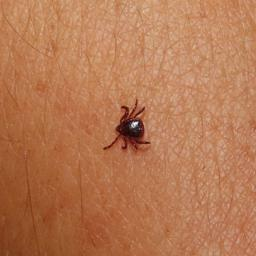Rhipicephalus sanguineus: (101, 97, 152, 152)
